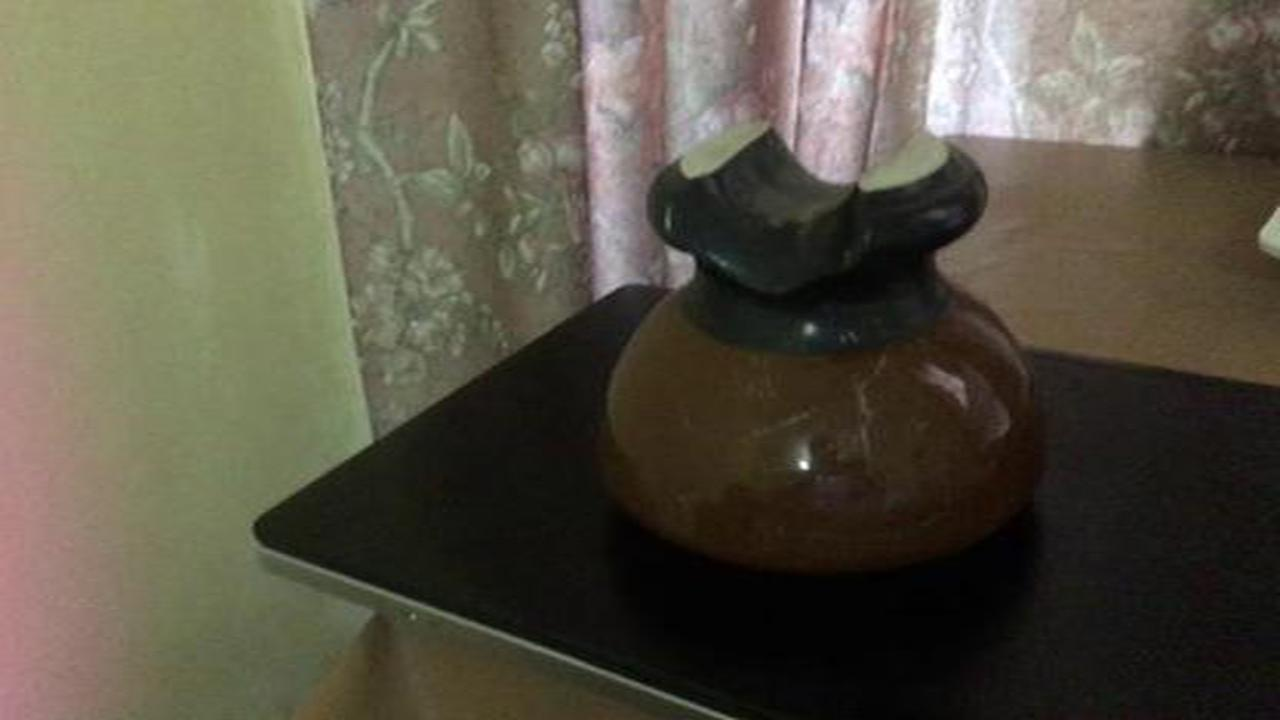insulator_pin: (594, 101, 1077, 586)
